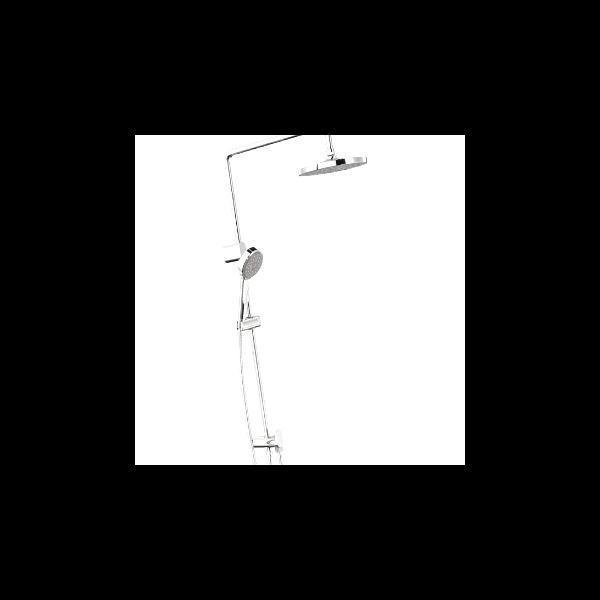Ducha: (217, 135, 369, 464)
